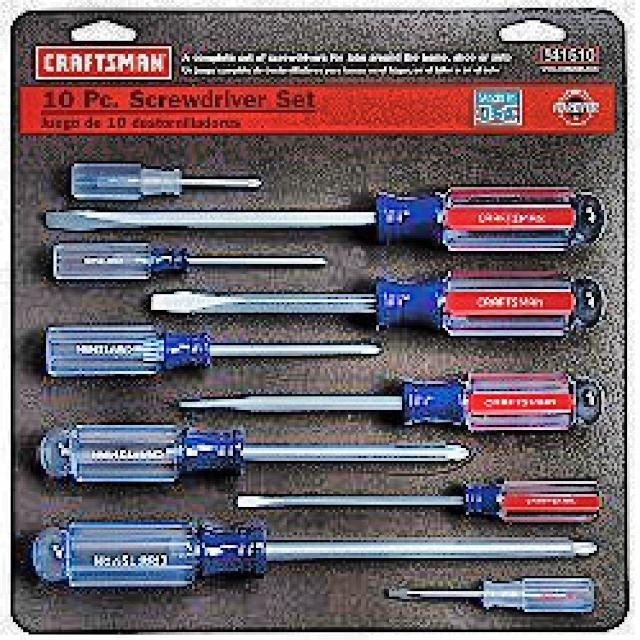screwdriver: (47, 188, 606, 252), (34, 523, 594, 583), (150, 274, 607, 334), (180, 376, 602, 430), (40, 428, 470, 479), (44, 324, 378, 376), (238, 479, 604, 522), (56, 244, 327, 280), (72, 160, 262, 200), (385, 580, 595, 614)
